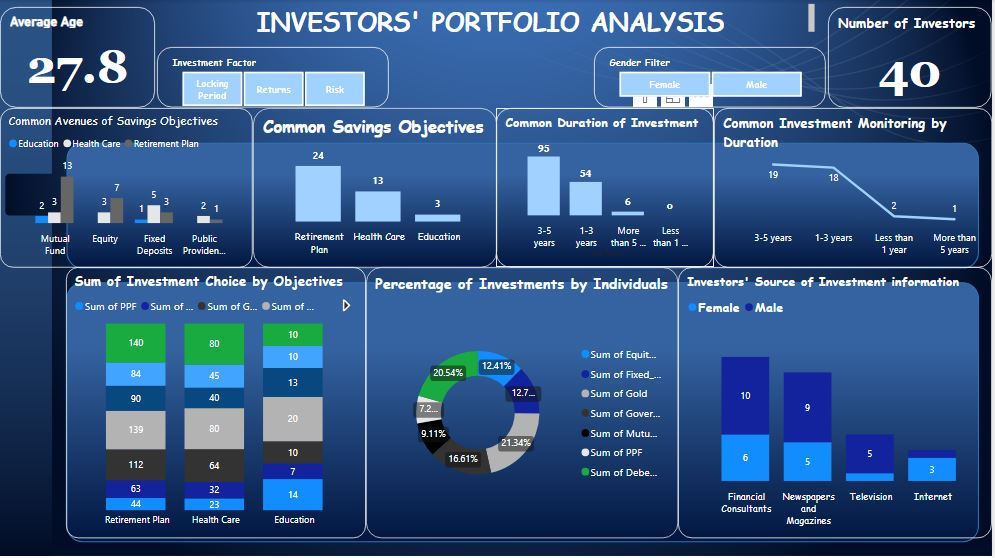

What the dashboard file says about the page in this screenshot:
{"tool":"powerbi","page":{"name":"Page 3","canvas":[1280,720],"ordinal":3},"visuals":[{"type":"columnChart","title":"Common Savings Objectives","fields":{"Category":["Data_set 2.Savings_objectives"],"Y":["Data_set 2.count_of_Sav_obj"]},"box":[326,138.9,314.6,205.5],"z":0},{"type":"columnChart","title":"Common Duration of Investment","fields":{"Category":["Data_set 2.Duration"],"Y":["Sum(Data_set 2.Duration_year)"]},"box":[640.6,138.9,280.6,205.5],"z":1},{"type":"lineChart","title":"Common Investment Monitoring by Duration","fields":{"Y":["CountNonNull(Data_set 2.Invest_Monitor)"],"Category":["Data_set 2.Duration"]},"box":[921.3,138.9,358.6,205.5],"z":2},{"type":"donutChart","title":"Percentage of Investments by Individuals","fields":{"Y":["Sum(Data_set 2.Equity_Market)","Sum(Data_set 2.Fixed_Deposits)","Sum(Data_set 2.Gold)","Sum(Data_set 2.Government_Bonds)","Sum(Data_set 2.Mutual_Funds)","Sum(Data_set 2.PPF)","Sum(Data_set 2.Debentures)"]},"box":[472.3,365.2,402.6,334.2],"z":3},{"type":"card","title":"Average Age","fields":{"Values":["Avg(Data_set 2.age)"]},"box":[0,9,200,130.3],"z":6},{"type":"clusteredColumnChart","title":"Common Avenues of Savings Objectives","fields":{"Category":["Data_set 2.Avenue"],"Y":["Data_set 2.count_of_Sav_obj"],"Series":["Data_set 2.Savings_objectives"]},"box":[0,138.9,326,205.5],"z":7},{"type":"hundredPercentStackedColumnChart","title":"Sum of Investment Choice by Objectives","fields":{"Y":["Sum(Data_set 2.PPF)","Sum(Data_set 2.Mutual_Funds)","Sum(Data_set 2.Government_Bonds)","Sum(Data_set 2.Gold)","Sum(Data_set 2.Fixed_Deposits)","Sum(Data_set 2.Equity_Market)","Sum(Data_set 2.Debentures)"],"Category":["Data_set 2.Savings_objectives"]},"box":[86.5,365.2,387.1,334.2],"z":8},{"type":"columnChart","title":"Investors'' Source of Investment information","fields":{"Category":["Data_set 2.Source"],"Y":["CountNonNull(Data_set 2.gender)"],"Series":["Data_set 2.gender"]},"box":[874.8,365.2,387.1,334.2],"z":9},{"type":"card","title":"Number of Investors","fields":{"Values":["CountNonNull(Data_set 2.gender)"]},"box":[1068.7,8.5,211.2,130.4],"z":10},{"type":"slicer","fields":{"Values":["Data_set 2.gender"]},"box":[766.8,60.9,299.1,78],"z":11},{"type":"slicer","fields":{"Values":["Data_set 2.Factor"]},"box":[202.7,60.9,299.1,78],"z":12},{"type":"textbox","box":[218.3,0,837.6,49.6],"z":13}]}

Visuals, with their boxes in screenshot pixels (x1, y1, x2, y2), scaled from the page's 1280x720 canvas onto the 995x558 screenshot:
"Common Savings Objectives" columnChart: x1=253, y1=108, x2=498, y2=267
"Common Duration of Investment" columnChart: x1=498, y1=108, x2=716, y2=267
"Common Investment Monitoring by Duration" lineChart: x1=716, y1=108, x2=994, y2=267
"Percentage of Investments by Individuals" donutChart: x1=367, y1=283, x2=680, y2=542
"Average Age" card: x1=0, y1=7, x2=155, y2=108
"Common Avenues of Savings Objectives" clusteredColumnChart: x1=0, y1=108, x2=253, y2=267
"Sum of Investment Choice by Objectives" hundredPercentStackedColumnChart: x1=67, y1=283, x2=368, y2=542
"Investors'' Source of Investment information" columnChart: x1=680, y1=283, x2=981, y2=542
"Number of Investors" card: x1=831, y1=7, x2=994, y2=108
slicer - Data_set 2.gender: x1=596, y1=47, x2=829, y2=108
slicer - Data_set 2.Factor: x1=158, y1=47, x2=390, y2=108
textbox: x1=170, y1=0, x2=821, y2=38
